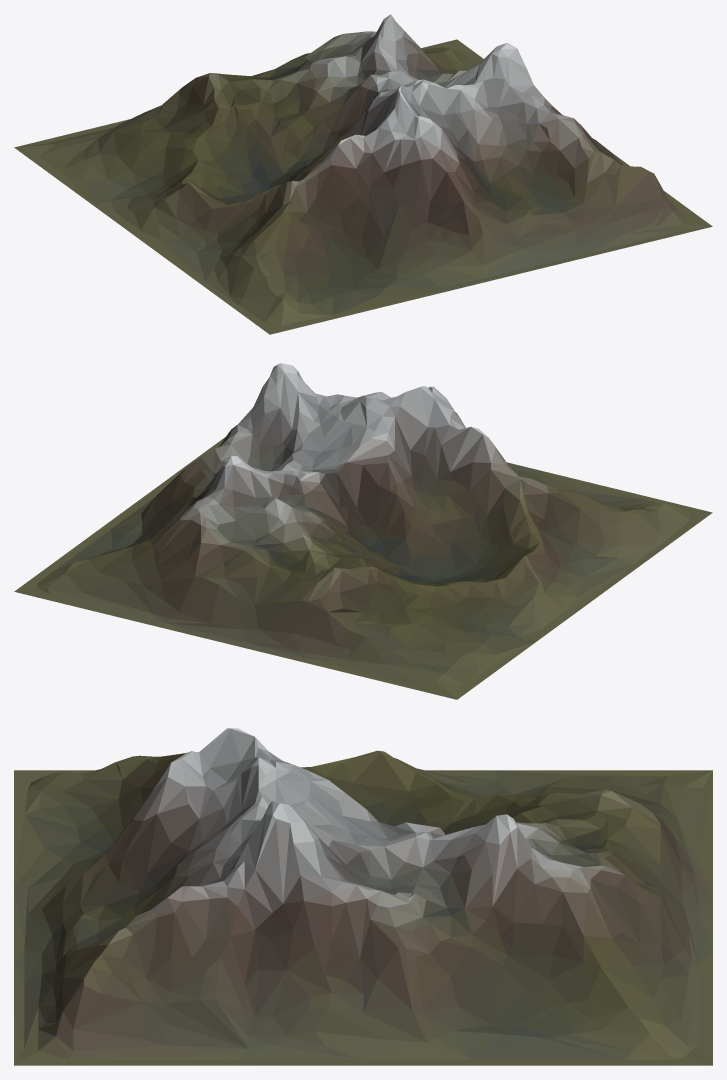
File: Sylvan-Snow_C.fbx
3 renders of one model, top to bottom at view 1: azimuth 30°, elevation 25°; view 2: azimuth 150°, elevation 25°; view 3: azimuth 270°, elevation 25°, orthographic. The views are drawn at different scales.
Parts seen in each view (by area): view 1: Sylvan-Snow_C; view 2: Sylvan-Snow_C; view 3: Sylvan-Snow_C.
Part boxes in pixels (left/top/right/bottom): Sylvan-Snow_C: left=14, top=14, right=712, bottom=334; Sylvan-Snow_C: left=14, top=363, right=712, bottom=699; Sylvan-Snow_C: left=14, top=728, right=712, bottom=1065.
Size of the model in its own units: 10000 by 2999 by 10000.
